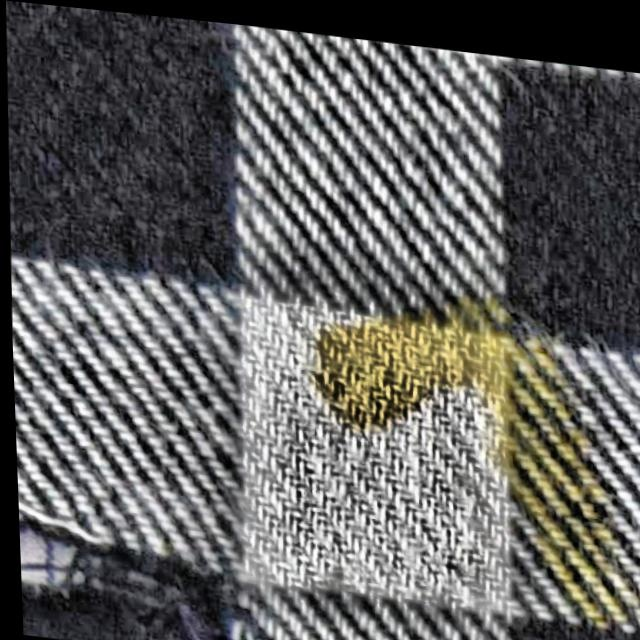Stitch: (13, 473, 291, 640)
